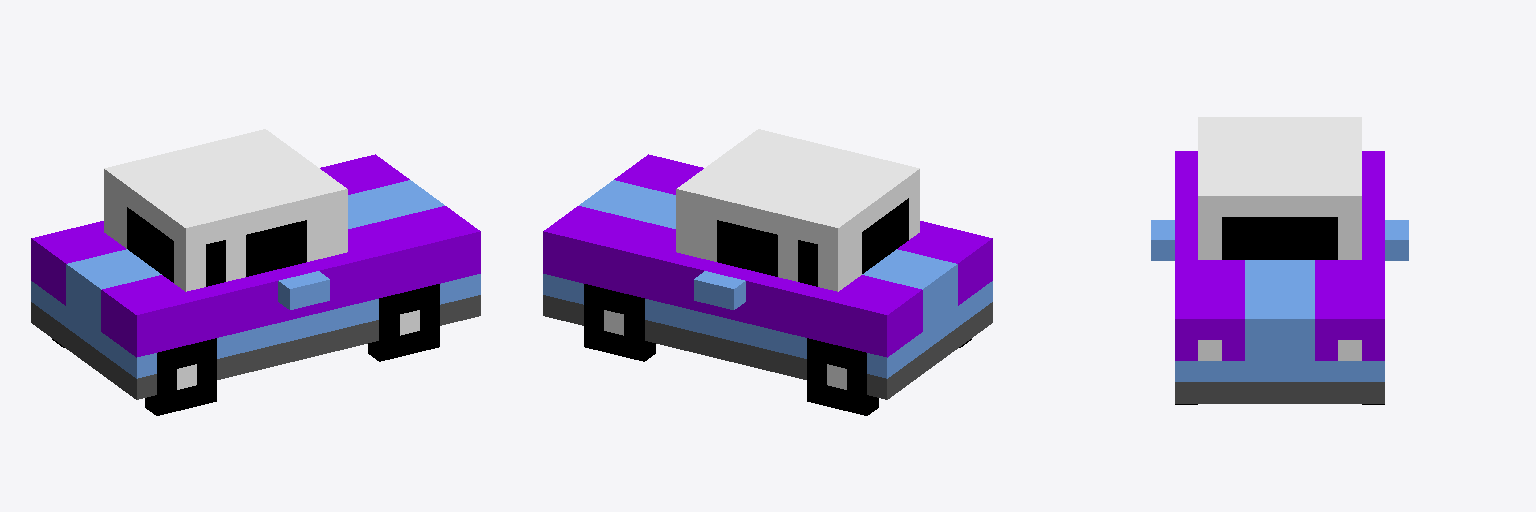
The picture shows the model from 3 angles: view 1: azimuth 30°, elevation 25°; view 2: azimuth 150°, elevation 25°; view 3: azimuth 270°, elevation 25°; orthographic projection.
Visible parts, largest first — view 1: object 1; view 2: object 1; view 3: object 1.
Boxes of the visible parts, <box> form: object 1: <box>31,129,480,415</box>; object 1: <box>543,129,992,415</box>; object 1: <box>1151,117,1408,404</box>.
Size of the model in its own units: 1.7 by 0.8 by 1.1.
Materials: 1 (1 with a texture image).